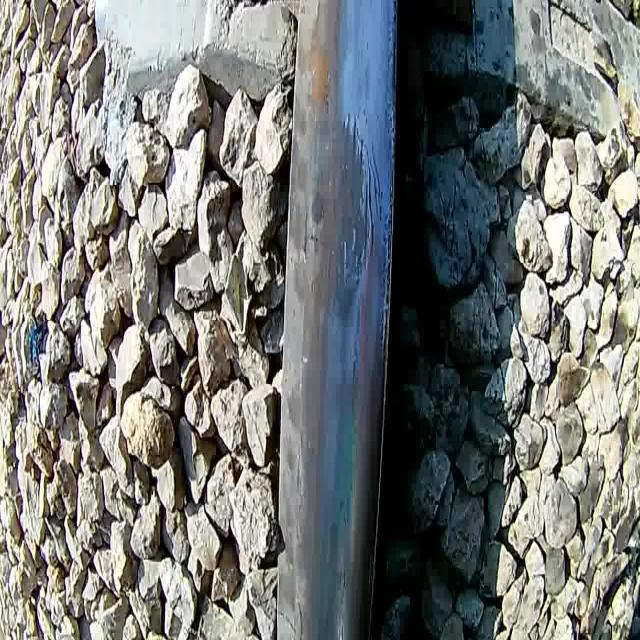Cracks: (339, 106, 384, 301)
Flakings: (380, 3, 400, 403)
Squats: (308, 120, 369, 326), (318, 330, 370, 485), (308, 509, 356, 640)
